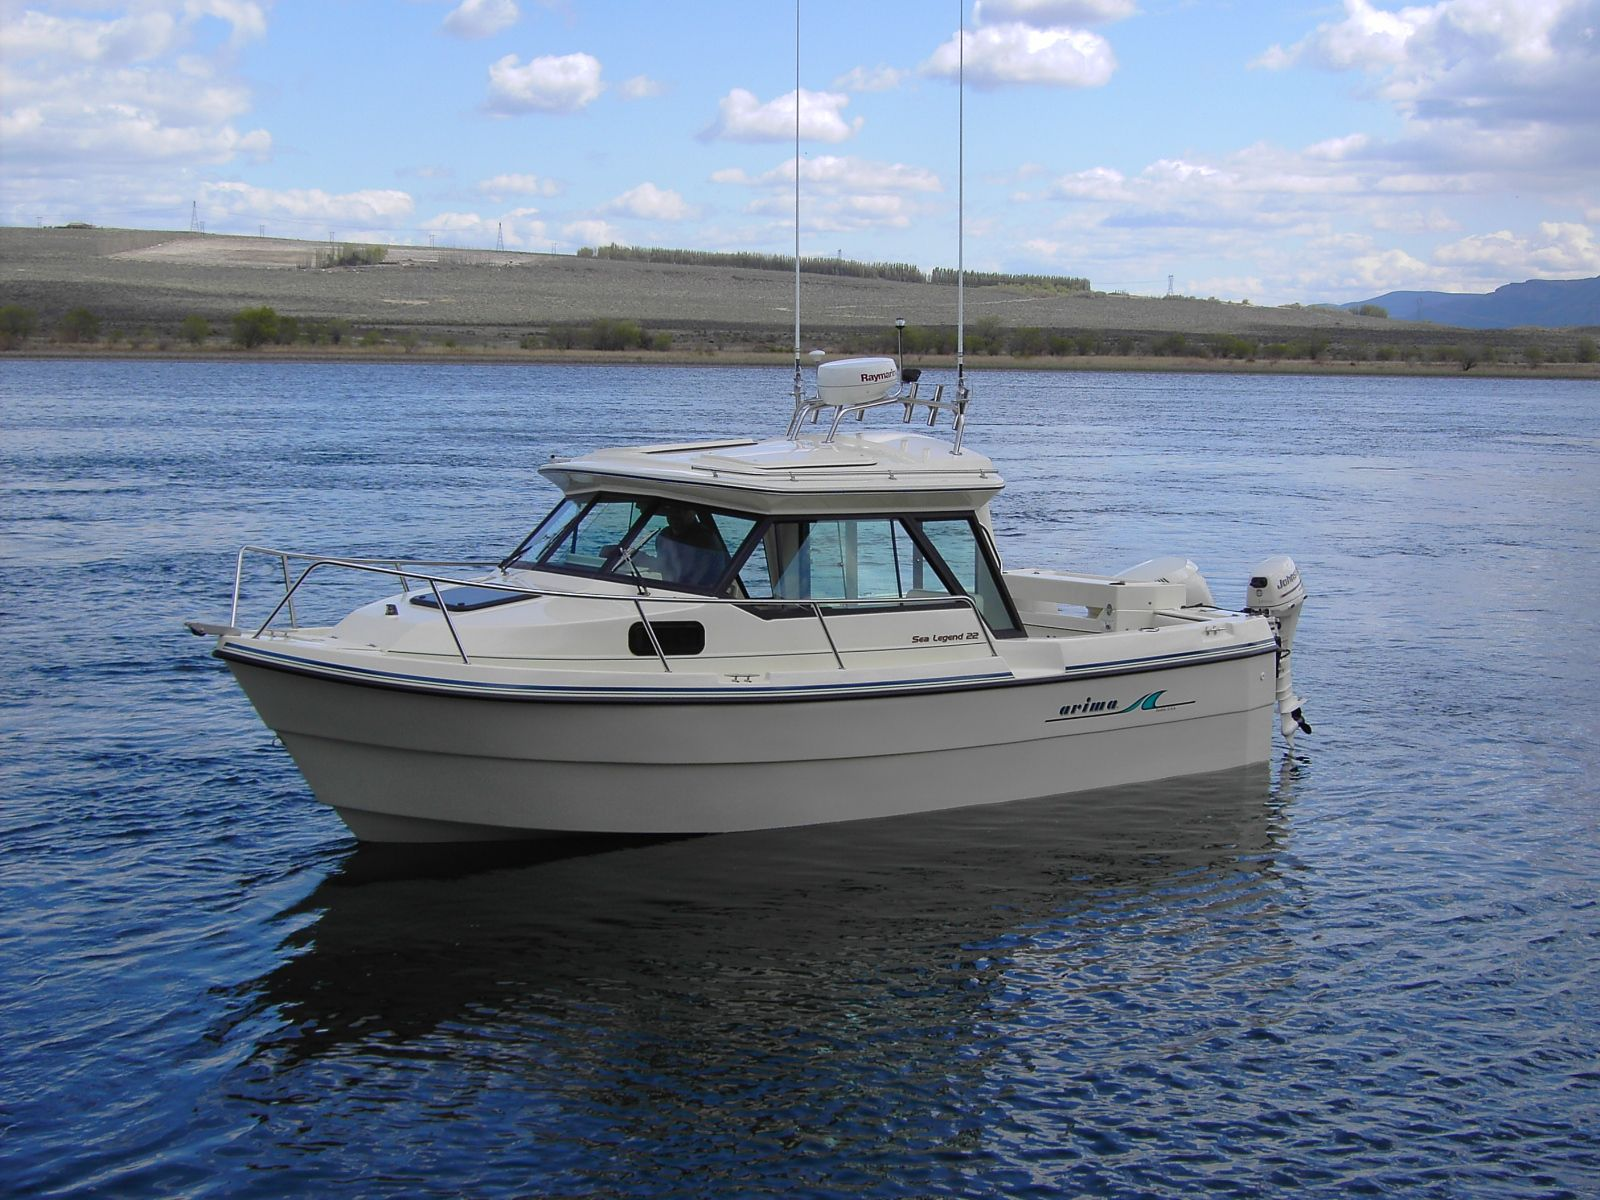boat: (181, 316, 1322, 855)
